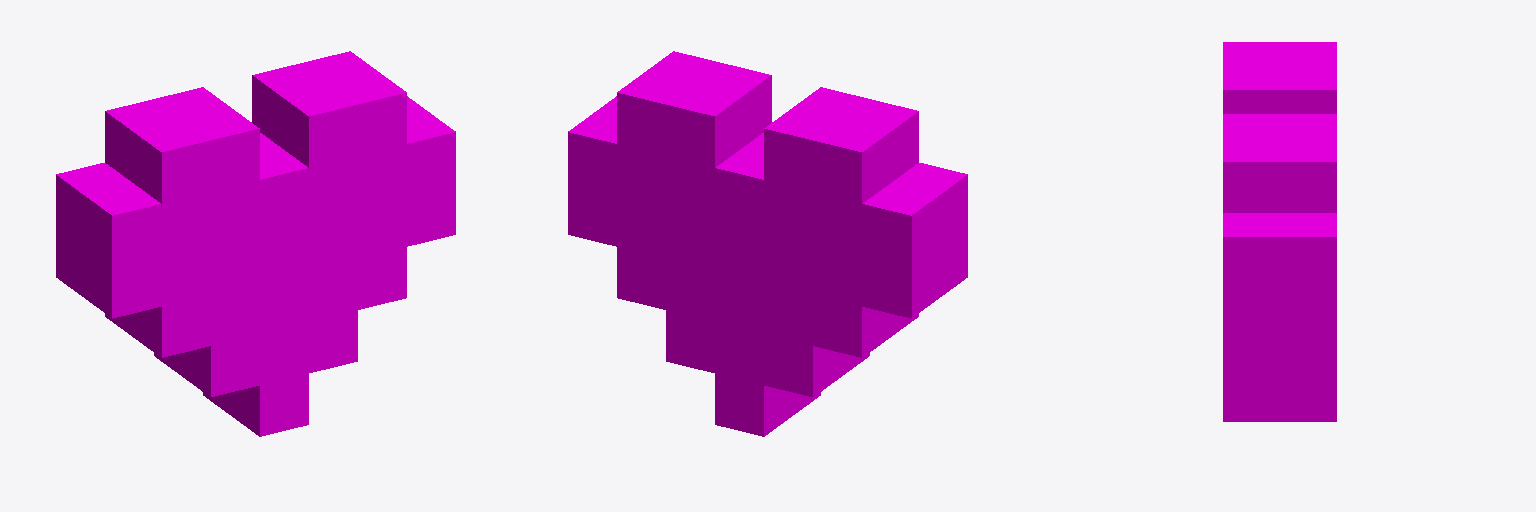
3 renders of one model, left to right at view 1: azimuth 30°, elevation 25°; view 2: azimuth 150°, elevation 25°; view 3: azimuth 270°, elevation 25°, orthographic.
Parts seen in each view (by area): view 1: object 1; view 2: object 1; view 3: object 1.
Part boxes in pixels (left/top/right/bottom): object 1: left=56, top=51, right=455, bottom=436; object 1: left=568, top=51, right=967, bottom=436; object 1: left=1223, top=42, right=1336, bottom=421.
Bounding box in the file's own units: 0.7 × 0.6 × 0.2.
Materials: 1 (1 with a texture image).